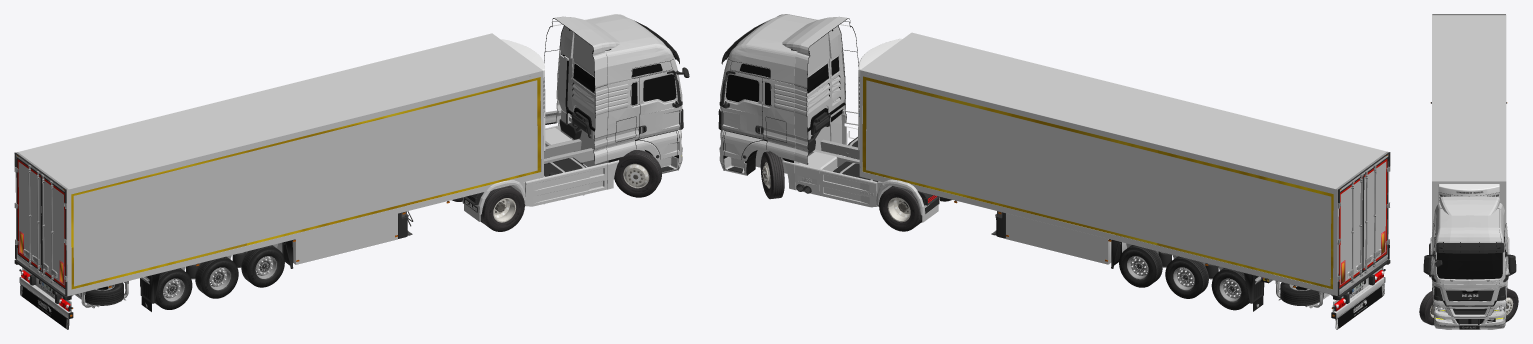
Rendered from camion.glb.
The picture shows the model from 3 angles, left to right: view 1: azimuth 30°, elevation 25°; view 2: azimuth 150°, elevation 25°; view 3: azimuth 270°, elevation 25°; orthographic projection. The views are drawn at different scales.
Visible parts, largest first — view 1: remorca-lateral-fata-dr, remorca-lateral-spate-dr, remorca-plafon, cabina-plafon, cabina-lateral-dr, remorca-spate, keep-43, keep-61, keep-55, cabina-lateral-st, cabina-usa-dr, keep-62 (+15 smaller); view 2: remorca-lateral-fata-st, remorca-plafon, remorca-lateral-spate-st, cabina-plafon, cabina-lateral-st, remorca-spate, keep-43, keep-61, keep-55, cabina-usa-st, cabina-lateral-dr, keep-65 (+14 smaller); view 3: remorca-plafon, cabina-plafon, cabina-fata, keep-33, keep-31, keep-24, keep-44, cabina-lateral-st, cabina-lateral-dr, remorca-fata, keep-25, keep-32 (+11 smaller).
Part boxes in pixels (<box>): remorca-lateral-fata-dr: <box>304,73,541,262</box>; remorca-lateral-spate-dr: <box>69,131,305,295</box>; remorca-plafon: <box>18,33,543,189</box>; cabina-plafon: <box>551,14,677,89</box>; cabina-lateral-dr: <box>583,68,682,193</box>; remorca-spate: <box>15,155,68,296</box>; keep-43: <box>71,77,540,289</box>; keep-61: <box>14,152,277,319</box>; keep-55: <box>86,247,284,309</box>; cabina-lateral-st: <box>545,51,649,166</box>; cabina-usa-dr: <box>639,69,678,149</box>; keep-62: <box>14,152,407,303</box>; remorca-lateral-fata-st: <box>861,73,1099,262</box>; remorca-plafon: <box>860,32,1386,189</box>; remorca-lateral-spate-st: <box>1098,130,1335,295</box>; cabina-plafon: <box>725,14,850,90</box>; cabina-lateral-st: <box>719,68,824,192</box>; remorca-spate: <box>1335,154,1389,295</box>; keep-43: <box>862,76,1333,289</box>; keep-61: <box>1120,151,1390,319</box>; keep-55: <box>1119,247,1318,310</box>; cabina-usa-st: <box>723,69,762,150</box>; cabina-lateral-dr: <box>752,51,858,154</box>; keep-65: <box>796,154,861,204</box>; remorca-plafon: <box>1432,15,1506,182</box>; cabina-plafon: <box>1433,196,1506,253</box>; cabina-fata: <box>1438,279,1500,326</box>; keep-33: <box>1435,230,1505,279</box>; keep-31: <box>1423,250,1516,324</box>; keep-24: <box>1436,242,1504,253</box>; keep-44: <box>1438,184,1499,196</box>; cabina-lateral-st: <box>1469,225,1509,329</box>; cabina-lateral-dr: <box>1430,225,1468,329</box>; remorca-fata: <box>1432,183,1506,234</box>; keep-25: <box>1446,290,1494,301</box>; keep-32: <box>1445,279,1497,299</box>.
Size of the model in its own units: 1 by 0.2372 by 0.1881.
Materials: 36 (14 with a texture image).
